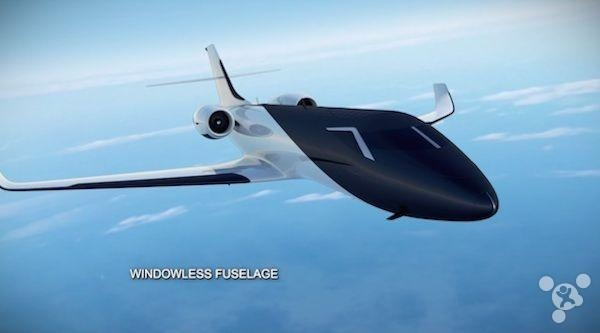airplane: (1, 43, 526, 224)
